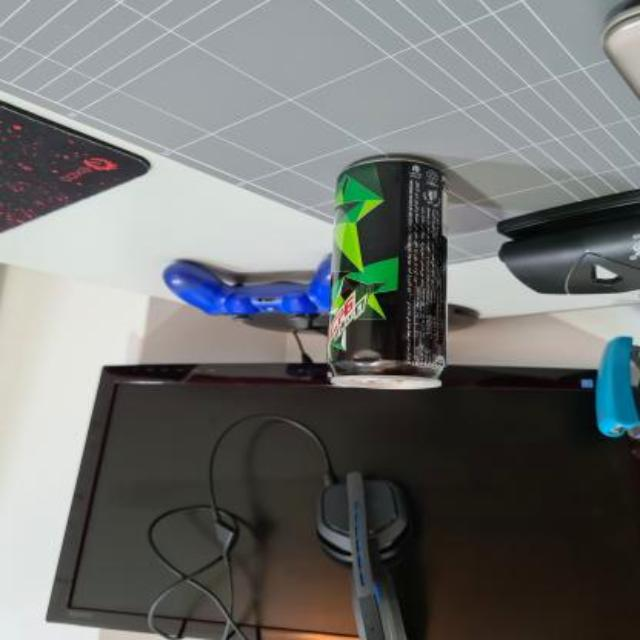metal: (328, 157, 446, 388)
